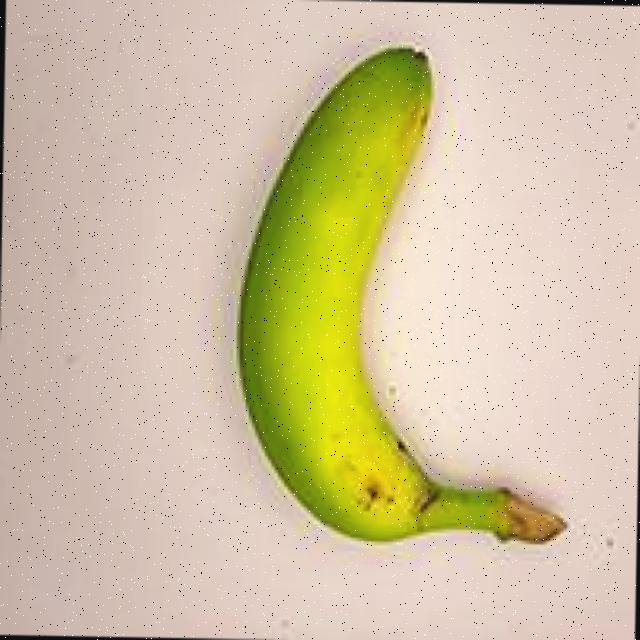Unripe: (185, 0, 582, 584)
